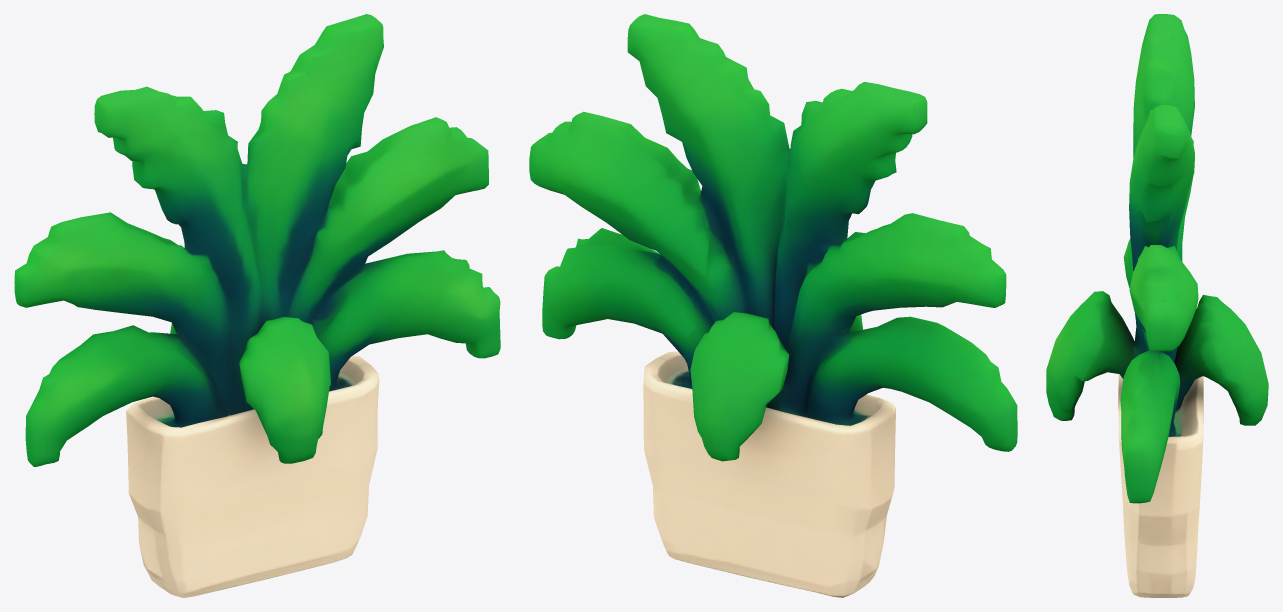
File: 12-plant-small.fbx
3 views of the same model, side by side, from view 1: azimuth 30°, elevation 25°; view 2: azimuth 150°, elevation 25°; view 3: azimuth 270°, elevation 25° (orthographic). The views are drawn at different scales.
Parts seen in each view (by area): view 1: model; view 2: model; view 3: model.
Part boxes in pixels (x1=…): model: x1=14, y1=14, x2=500, y2=597; model: x1=529, y1=14, x2=1017, y2=597; model: x1=1046, y1=14, x2=1268, y2=597.
Bounding box in the file's own units: 178 × 190 × 77.94.
